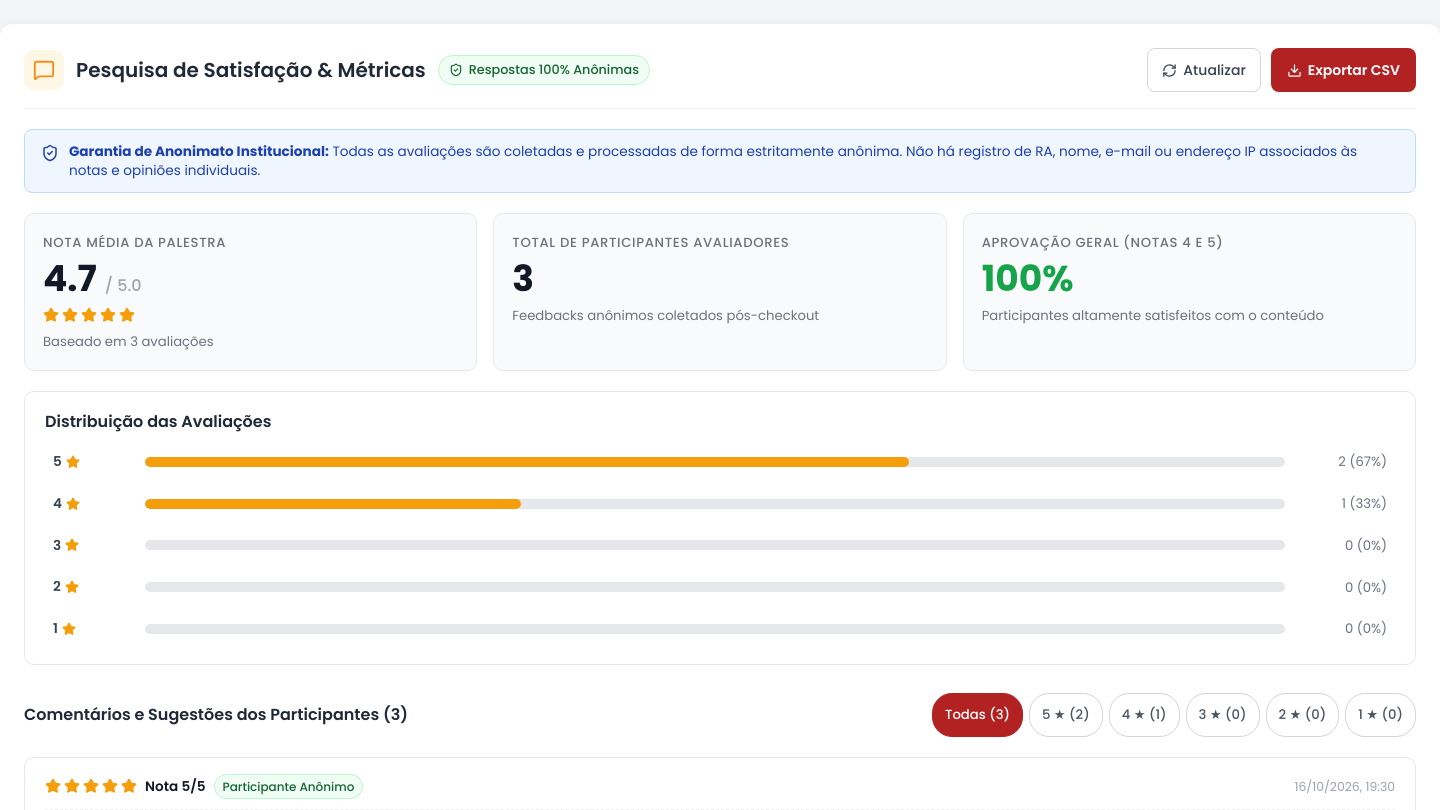
Test: EventFeedbackPanel Component › permite filtrar feedbacks por nota de estrela
# Clica no chip para filtrar apenas 4 estrelas
What coordinates should you click on to do the following:
click the button "4 ★ (1)"
I would click on:
 (1144, 715)
Its box is [1109,693,1180,737].
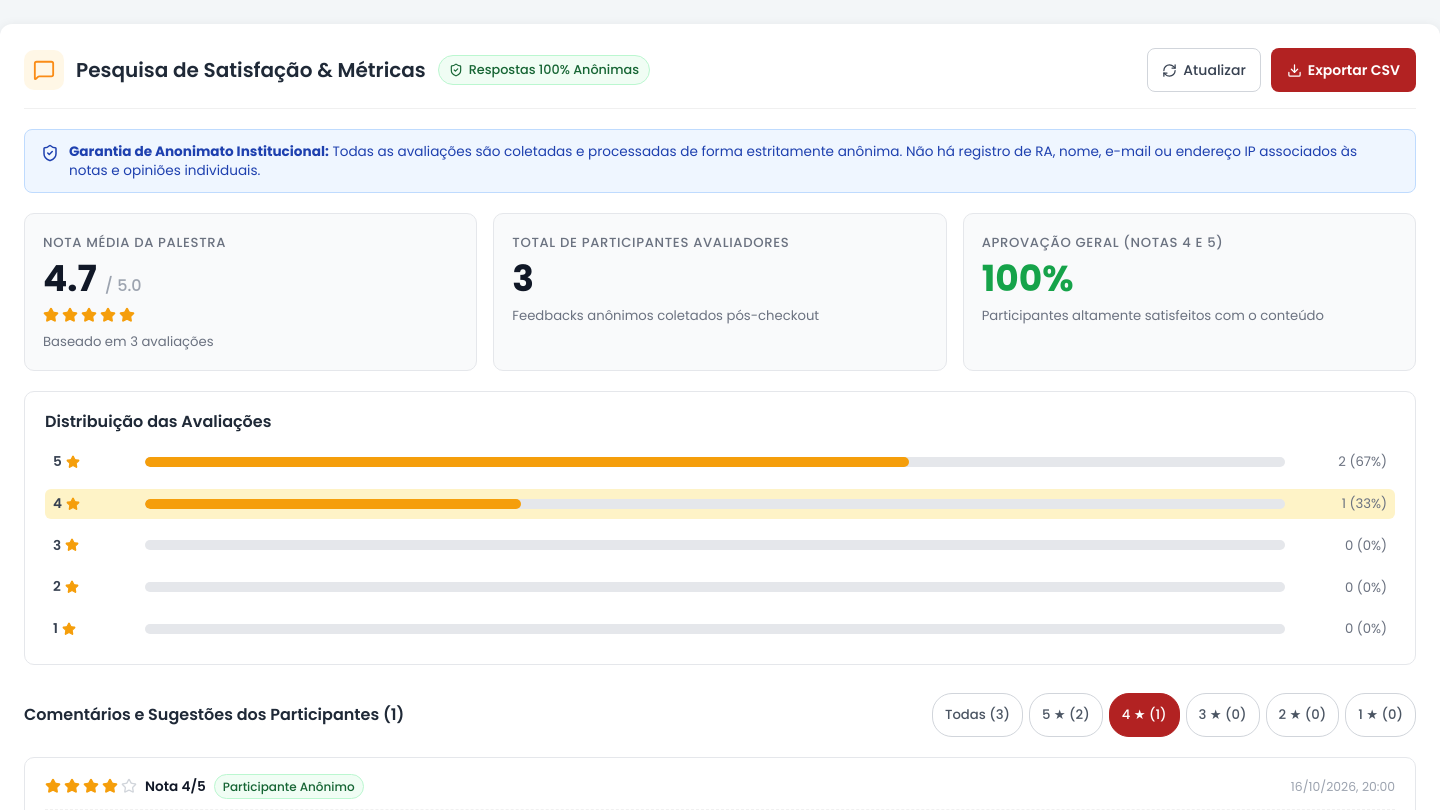
# Volta para todas
What coordinates should you click on to do the following:
click the button "Todas (3)"
I would click on:
 (977, 715)
Its box is [932,693,1023,737].
(page scrolled)
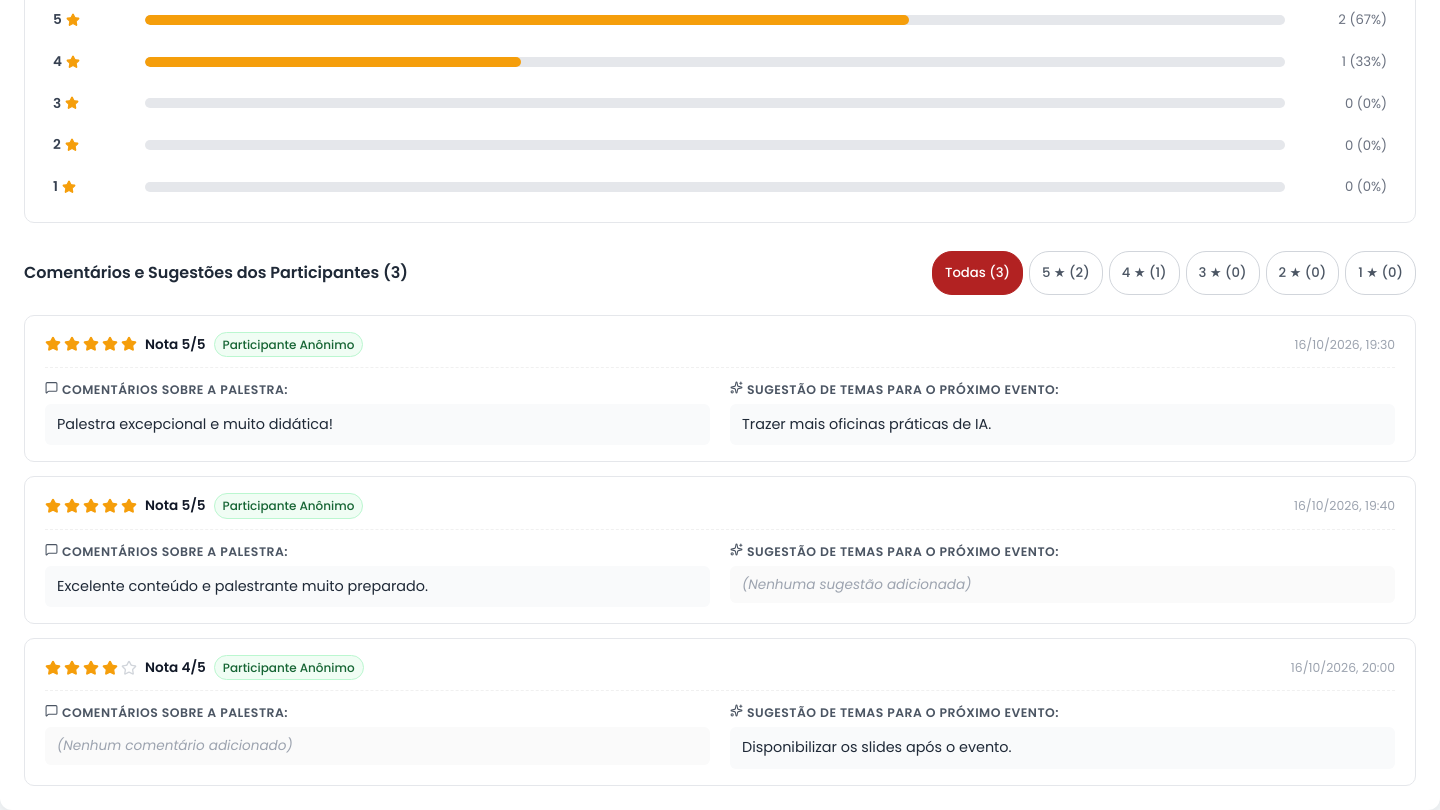
Check: the text "Palestra excepcional e muito didática!" is shown, box [45,404,710,446]
